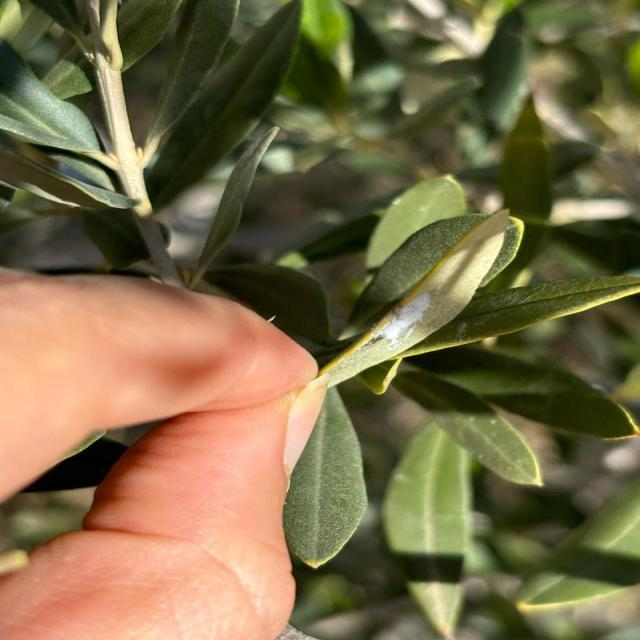Psyllid: (318, 210, 511, 388)
